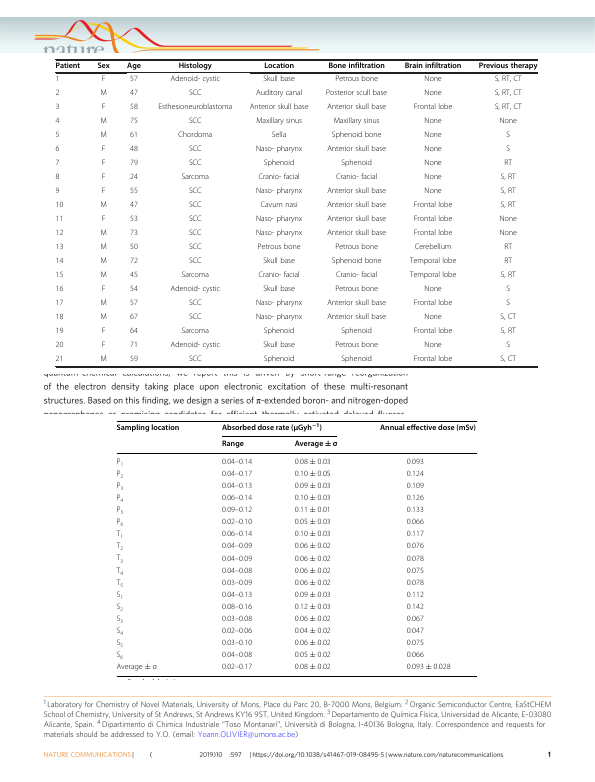borderless: (54, 58, 537, 366), (115, 419, 477, 676)
cell: (221, 422, 323, 433), (379, 423, 477, 433), (157, 103, 233, 113), (116, 423, 180, 433), (325, 89, 388, 99), (326, 103, 387, 113), (326, 145, 387, 155), (326, 187, 387, 197), (326, 201, 387, 211), (326, 215, 387, 225), (326, 229, 387, 239), (326, 299, 387, 309), (326, 313, 387, 323), (249, 103, 309, 113), (478, 62, 538, 71), (327, 62, 386, 71), (404, 62, 462, 71), (169, 75, 221, 85), (169, 285, 221, 295), (169, 341, 221, 351), (331, 131, 382, 141), (331, 257, 382, 267), (255, 89, 303, 99), (255, 117, 303, 127), (255, 145, 303, 155), (255, 187, 303, 197), (255, 215, 303, 225), (255, 229, 303, 239), (409, 257, 457, 267), (409, 271, 457, 281), (255, 299, 303, 309), (255, 313, 303, 323), (333, 117, 380, 127), (334, 75, 379, 85), (334, 243, 379, 253), (334, 285, 379, 295), (334, 341, 379, 351), (257, 173, 301, 183), (257, 243, 301, 253), (257, 271, 301, 281), (294, 439, 338, 449), (335, 173, 378, 183), (335, 271, 378, 281), (406, 663, 452, 672), (413, 103, 453, 113), (259, 201, 299, 211), (413, 201, 453, 211), (413, 215, 453, 225), (413, 229, 453, 239), (413, 299, 453, 309), (413, 327, 453, 337), (413, 355, 453, 365), (115, 663, 158, 672), (414, 243, 452, 253), (294, 457, 332, 467), (294, 469, 332, 479), (294, 578, 332, 588), (294, 590, 332, 600), (177, 131, 213, 141), (294, 482, 332, 491), (294, 494, 332, 503), (294, 506, 332, 515), (294, 518, 332, 527), (294, 530, 332, 539), (294, 542, 332, 551), (294, 554, 332, 563), (294, 566, 332, 575), (294, 603, 332, 612), (294, 615, 332, 624), (294, 627, 332, 636), (294, 639, 332, 648), (294, 651, 332, 660), (294, 663, 332, 672), (262, 75, 296, 85), (262, 257, 296, 267), (262, 285, 296, 295), (262, 341, 296, 351), (340, 159, 373, 169), (340, 327, 373, 337), (340, 355, 373, 365), (263, 159, 295, 169), (263, 327, 295, 337), (263, 355, 295, 365), (221, 457, 253, 467), (221, 469, 253, 479), (221, 578, 253, 588), (221, 590, 253, 600), (178, 62, 213, 71), (180, 173, 210, 183), (180, 271, 210, 281), (180, 327, 210, 337), (494, 75, 523, 85), (494, 89, 523, 99), (494, 103, 523, 113), (263, 62, 295, 71), (221, 482, 253, 491), (221, 494, 253, 503), (221, 506, 253, 515), (221, 518, 253, 527), (221, 530, 253, 539), (221, 542, 253, 551), (221, 554, 253, 563), (221, 566, 253, 575), (221, 603, 253, 612), (221, 615, 253, 624), (221, 627, 253, 636), (221, 639, 253, 648), (221, 651, 253, 660), (221, 663, 253, 672), (221, 439, 245, 449), (55, 62, 81, 71), (423, 75, 443, 85), (423, 89, 443, 99), (423, 117, 443, 127), (498, 117, 518, 127), (423, 131, 443, 141), (423, 145, 443, 155), (423, 159, 443, 169), (423, 173, 443, 183), (423, 187, 443, 197), (498, 215, 518, 225), (498, 229, 518, 239), (423, 285, 443, 295), (423, 313, 443, 323), (423, 341, 443, 351), (406, 457, 425, 467), (406, 469, 425, 479), (406, 578, 425, 588), (406, 590, 425, 600), (499, 313, 517, 323), (499, 355, 517, 365), (406, 482, 425, 491), (406, 494, 425, 503), (406, 506, 425, 515), (406, 518, 425, 527), (406, 530, 425, 539), (406, 542, 425, 551), (406, 554, 425, 563), (406, 566, 425, 575), (406, 603, 425, 612), (406, 615, 425, 624), (406, 627, 425, 636), (406, 639, 425, 648), (406, 651, 425, 660), (500, 173, 517, 183), (500, 187, 517, 197), (500, 201, 517, 211), (500, 271, 517, 281), (500, 327, 517, 337), (271, 131, 287, 141), (126, 62, 142, 71), (188, 89, 202, 99), (188, 117, 202, 127), (188, 145, 202, 155), (188, 159, 202, 169), (188, 187, 202, 197), (188, 201, 202, 211), (188, 215, 202, 225), (188, 229, 202, 239), (188, 243, 202, 253), (188, 257, 202, 267), (188, 299, 202, 309), (188, 313, 202, 323), (188, 355, 202, 365), (96, 62, 111, 71), (129, 75, 139, 85), (129, 89, 139, 99), (129, 103, 139, 113), (129, 117, 139, 127), (129, 131, 139, 141), (129, 145, 139, 155), (129, 159, 139, 169), (503, 159, 513, 169), (129, 173, 139, 183), (129, 187, 139, 197), (129, 201, 139, 211), (129, 215, 139, 225), (129, 229, 139, 239), (129, 243, 139, 253), (503, 243, 513, 253), (129, 257, 139, 267), (503, 257, 513, 267), (129, 271, 139, 281), (129, 285, 139, 295), (129, 299, 139, 309), (129, 313, 139, 323), (129, 327, 139, 337), (129, 341, 139, 351), (129, 355, 139, 365), (115, 530, 124, 541), (115, 542, 124, 553), (115, 554, 124, 565), (115, 566, 124, 577), (115, 578, 124, 589), (115, 590, 124, 601), (115, 639, 124, 650), (115, 651, 124, 662), (99, 89, 108, 99), (99, 117, 108, 127), (99, 131, 108, 141), (55, 201, 64, 211), (99, 201, 108, 211), (55, 215, 64, 225), (55, 229, 64, 239), (99, 229, 108, 239), (55, 243, 64, 253), (99, 243, 108, 253), (55, 257, 64, 267), (99, 257, 108, 267), (55, 271, 64, 281), (99, 271, 108, 281), (55, 285, 64, 295), (55, 299, 64, 309), (99, 299, 108, 309), (55, 313, 64, 323), (99, 313, 108, 323), (55, 327, 64, 337), (55, 341, 64, 351), (55, 355, 64, 365), (99, 355, 108, 365), (115, 603, 124, 613), (115, 615, 124, 625), (115, 627, 124, 637), (116, 457, 124, 468), (116, 469, 124, 480), (116, 518, 124, 529), (116, 482, 124, 492), (116, 494, 124, 504), (116, 506, 124, 516), (505, 131, 511, 141), (505, 145, 511, 155), (505, 285, 511, 295), (505, 299, 511, 309), (505, 341, 511, 351), (55, 75, 60, 85), (101, 75, 106, 85), (55, 89, 60, 99), (55, 103, 60, 113), (101, 103, 106, 113), (55, 117, 60, 127), (55, 131, 60, 141), (55, 145, 60, 155), (101, 145, 106, 155), (55, 159, 60, 169), (101, 159, 106, 169), (55, 173, 60, 183), (101, 173, 106, 183), (55, 187, 60, 197), (101, 187, 106, 197), (101, 215, 106, 225), (101, 285, 106, 295), (101, 327, 106, 337), (101, 341, 106, 351)
